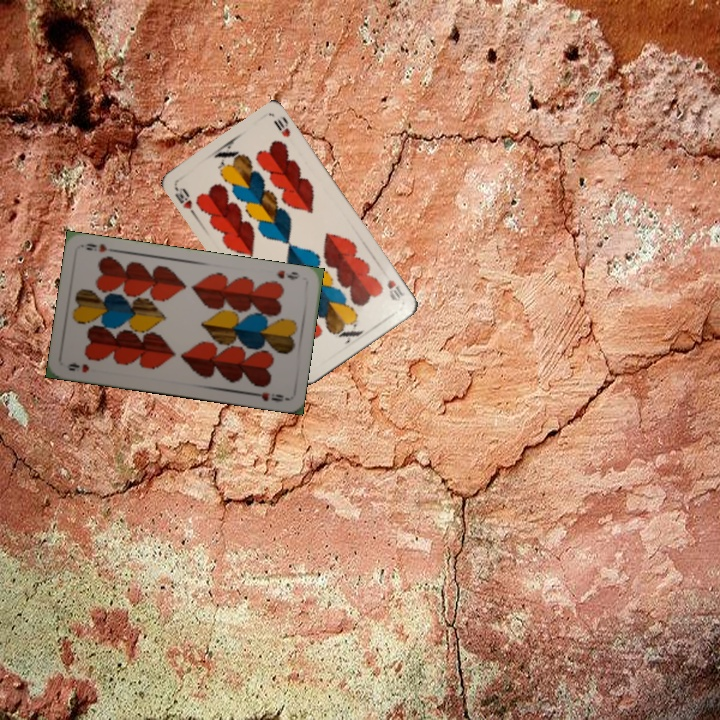H10: (170, 183, 195, 212), (383, 276, 408, 304)
H9: (273, 266, 302, 283), (63, 358, 91, 375)
